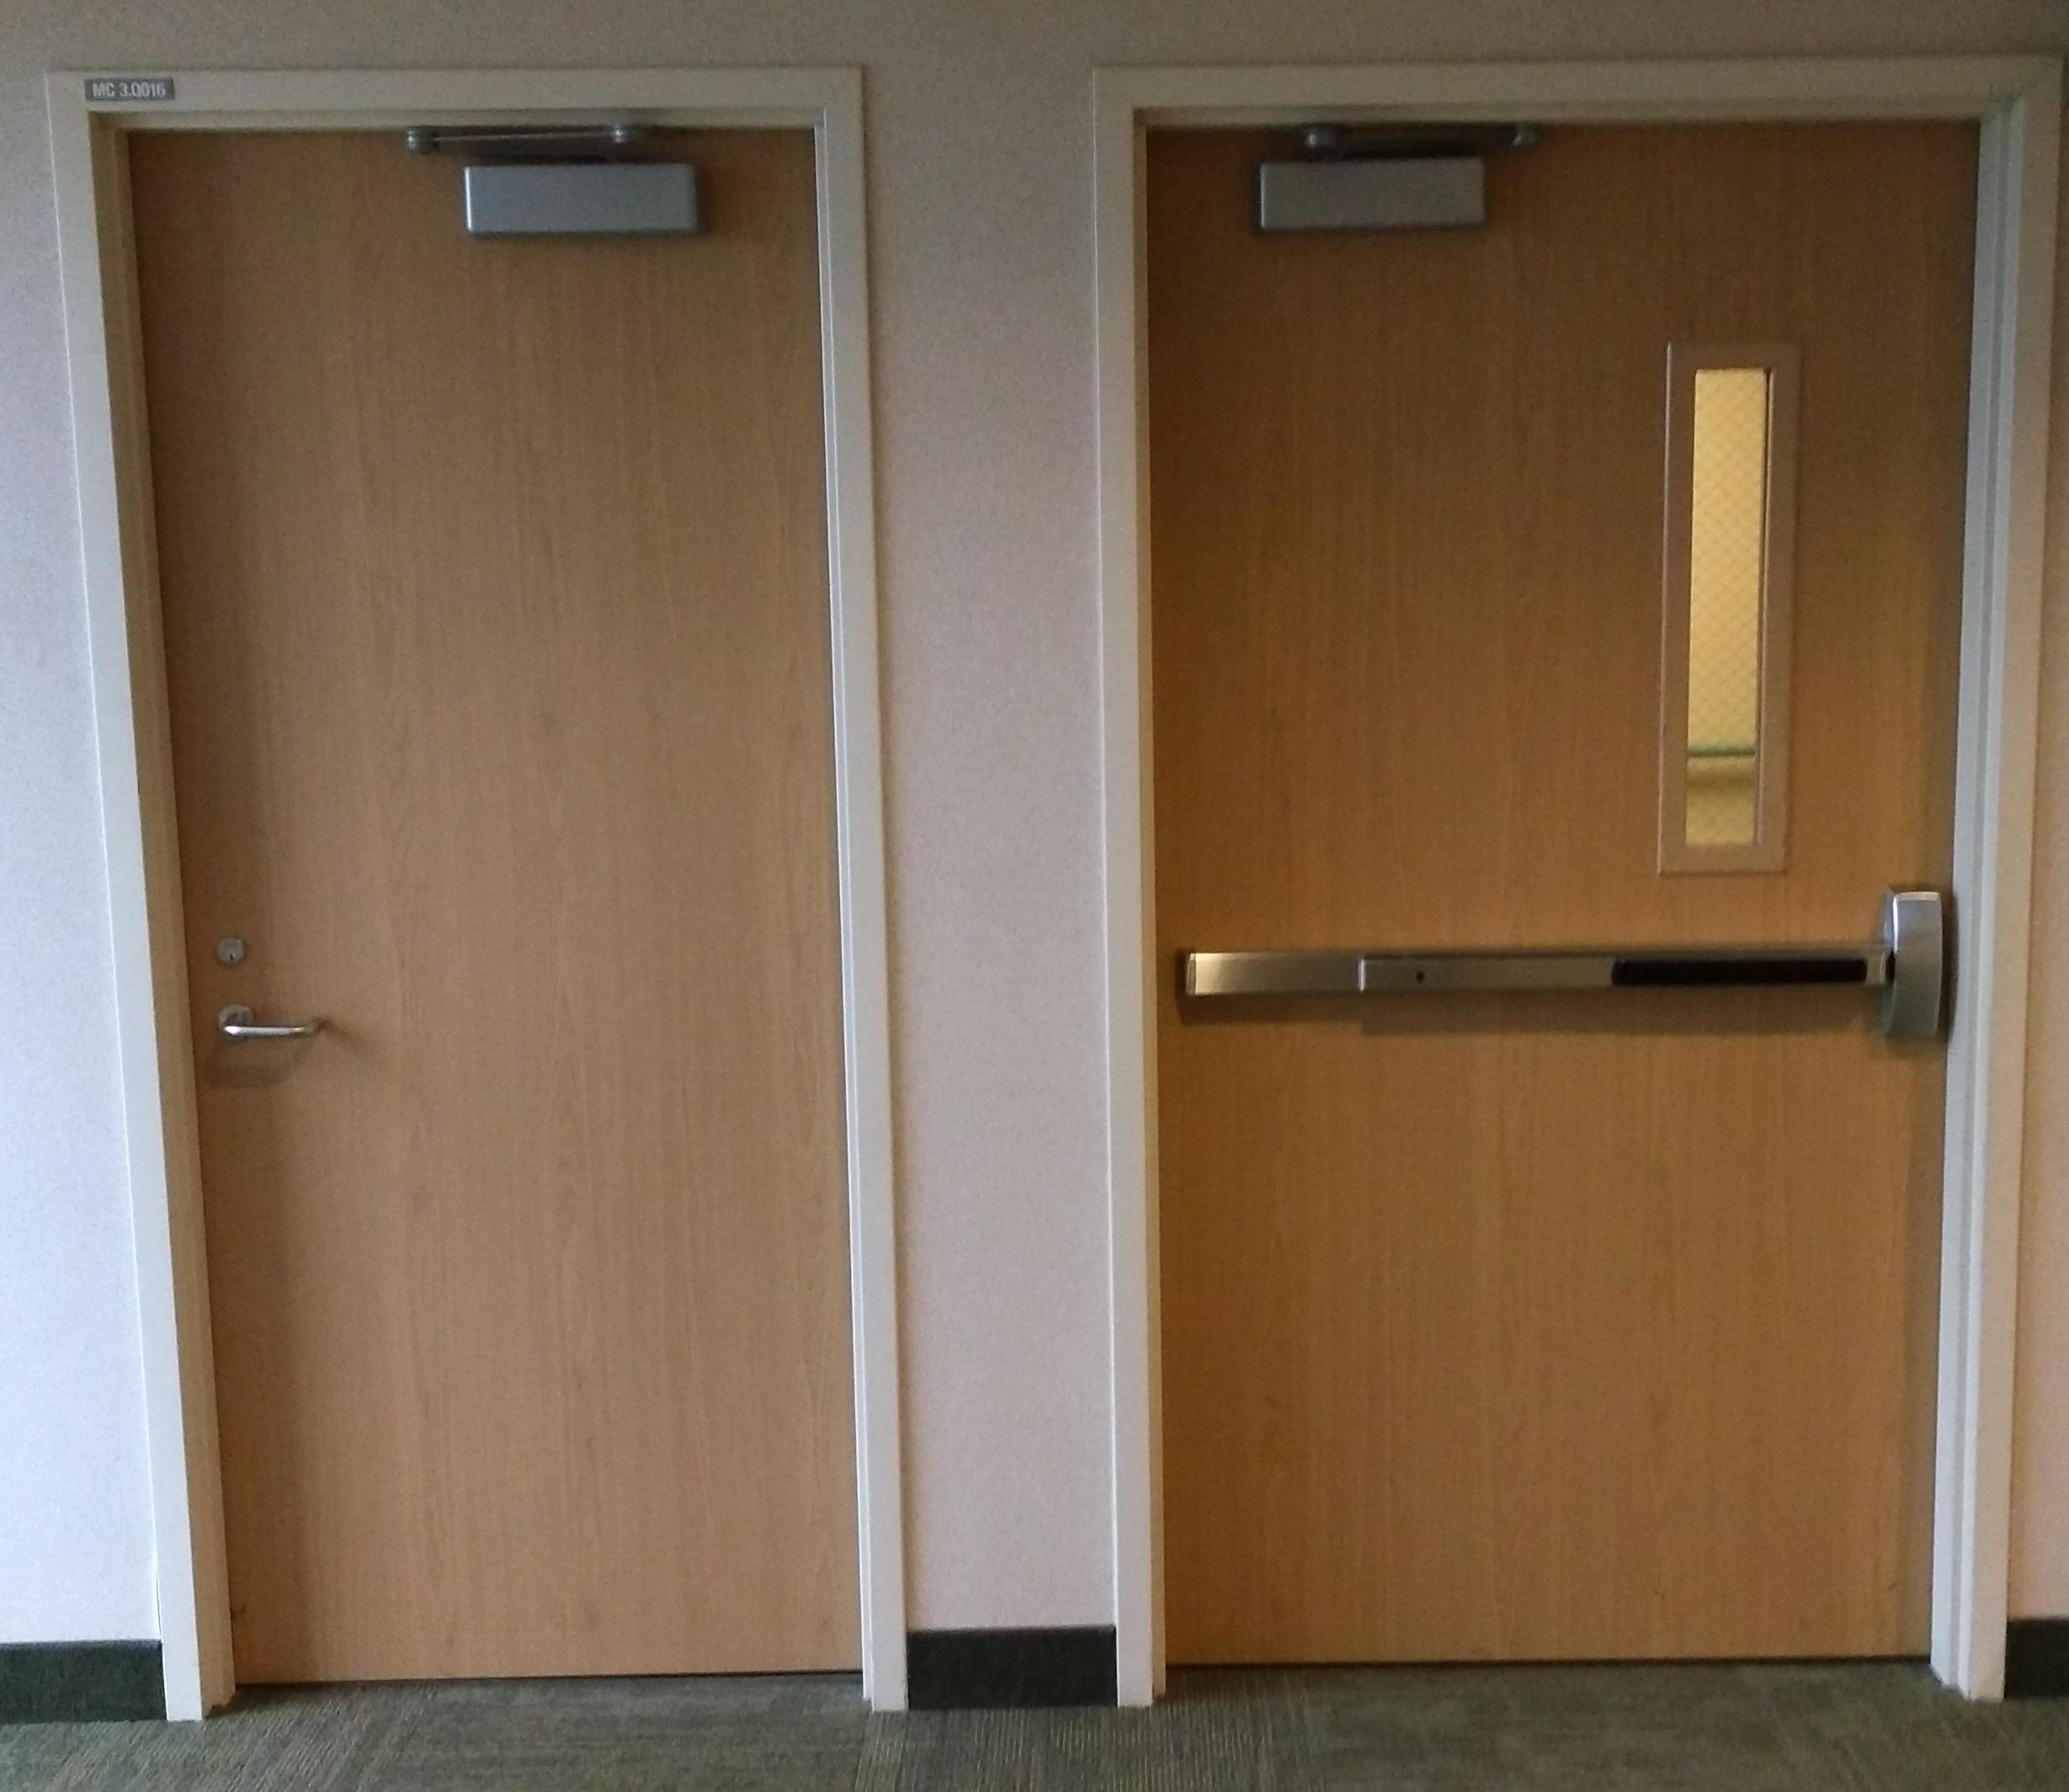door: (1093, 60, 2062, 1709), (44, 67, 908, 1715)
